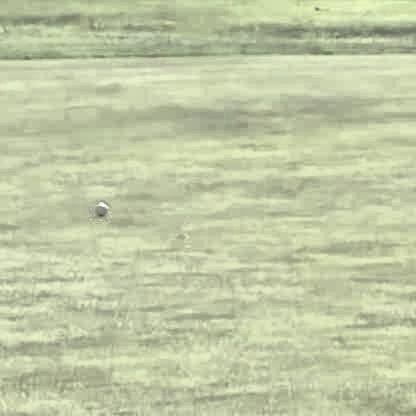golfball: (93, 194, 104, 212)
